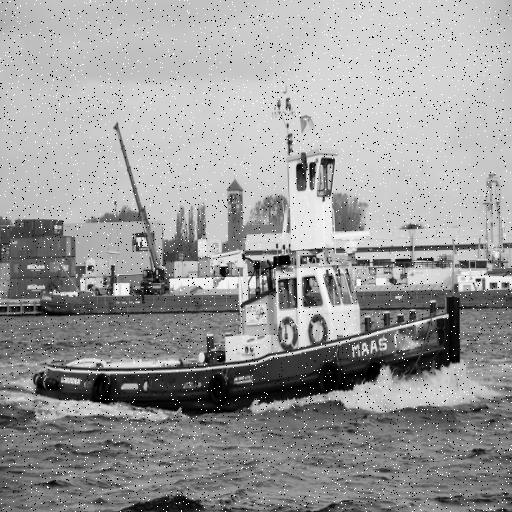tugboat: (30, 50, 465, 423)
